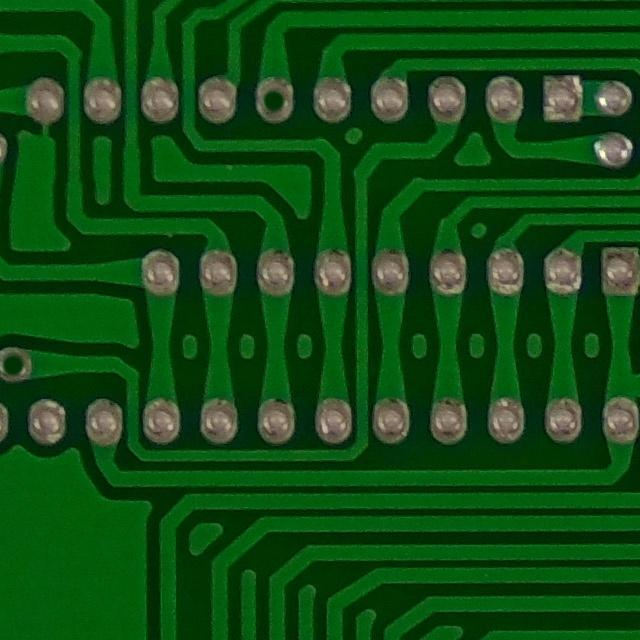missing_hole: (252, 71, 302, 132), (0, 335, 47, 390)
